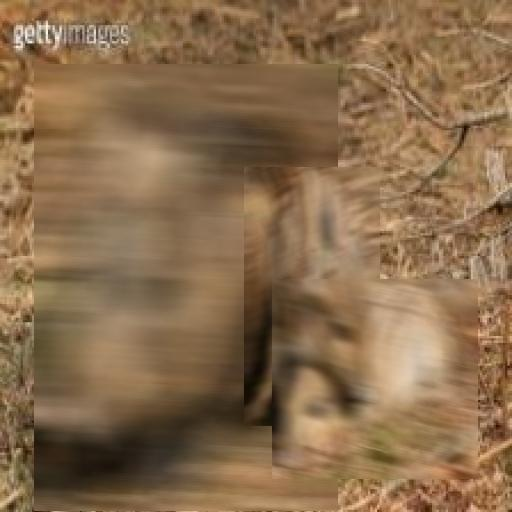Pig: (34, 64, 338, 511), (272, 279, 478, 479), (244, 167, 380, 426)
